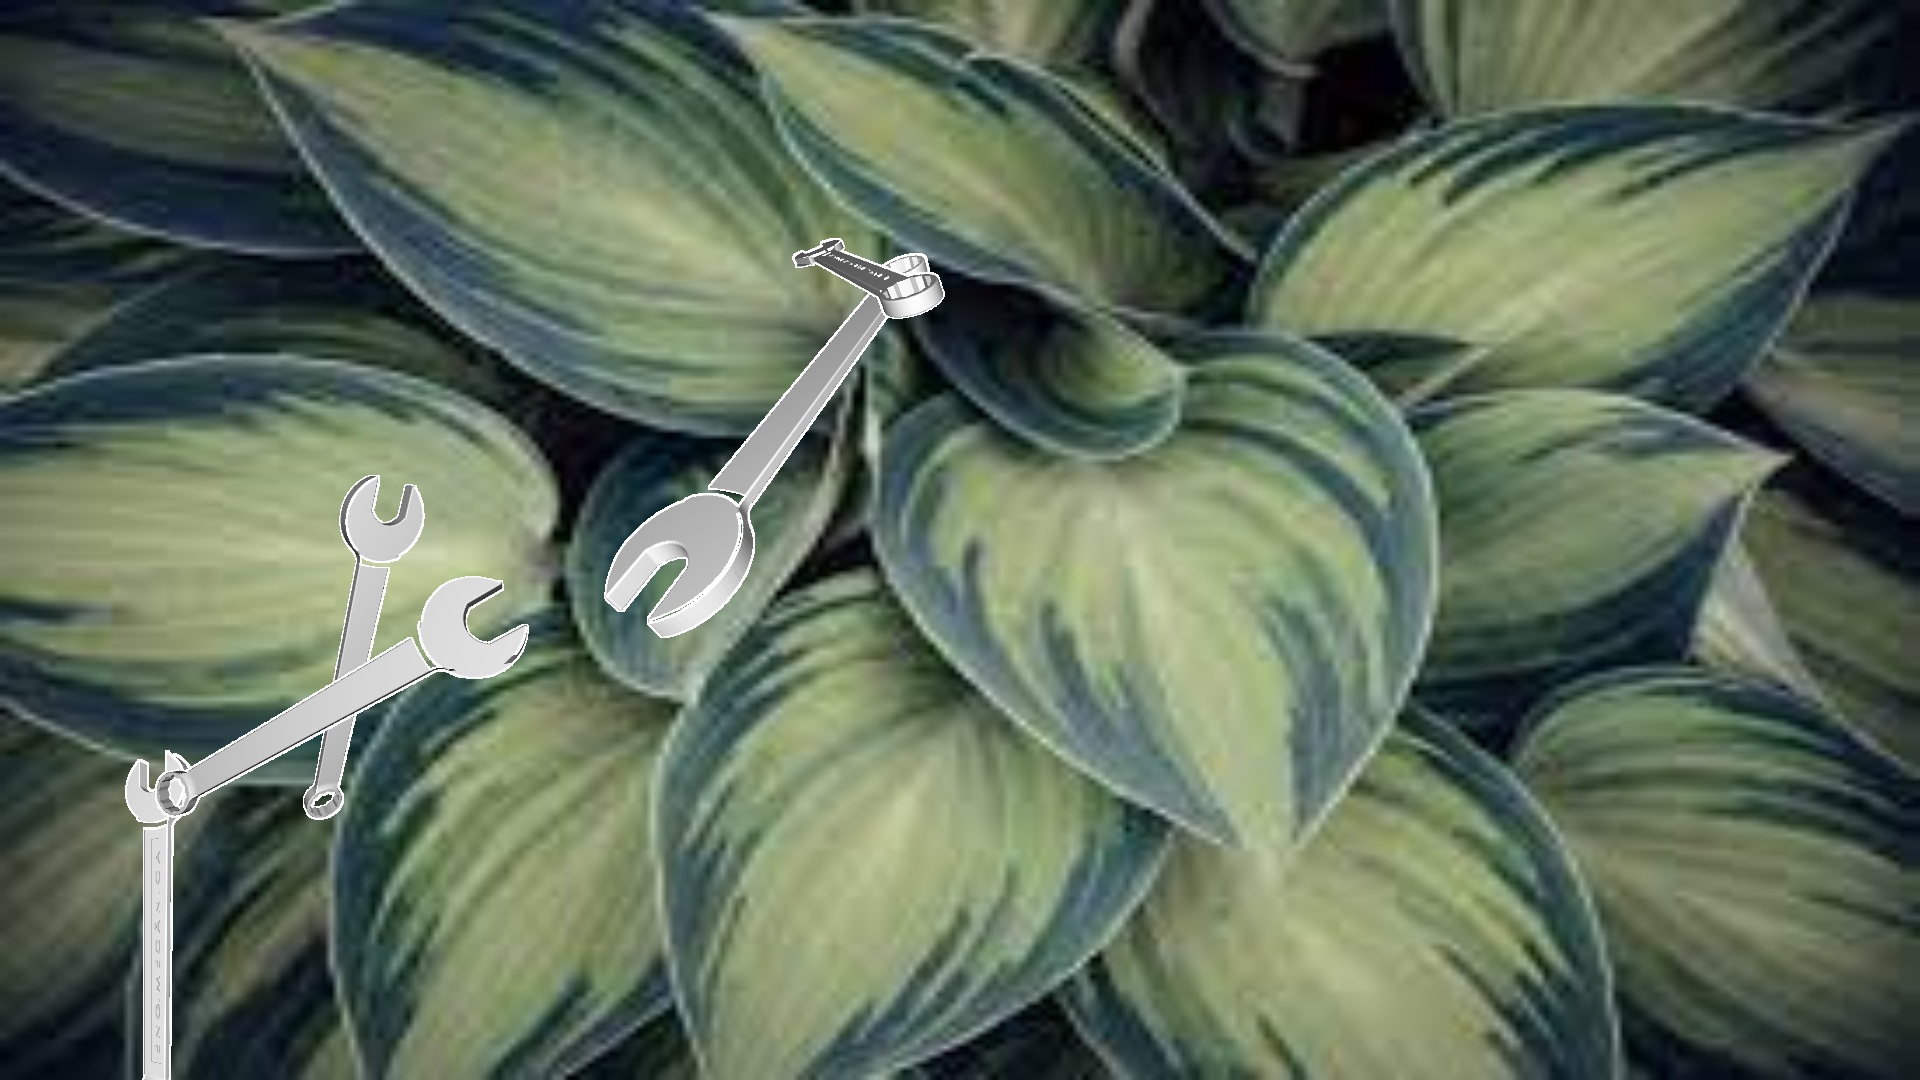Mixed Key: (604, 253, 928, 637), (156, 576, 527, 818), (303, 475, 425, 819), (125, 750, 190, 1079), (793, 237, 944, 318)
